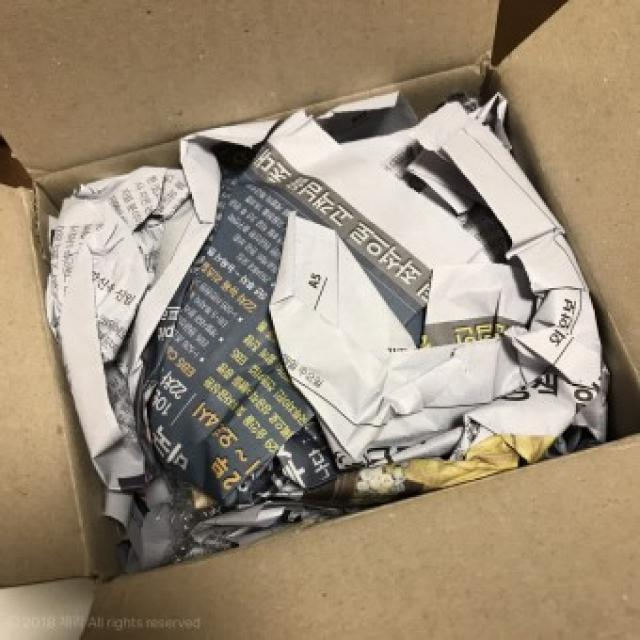Newspaper: (55, 104, 602, 553)
